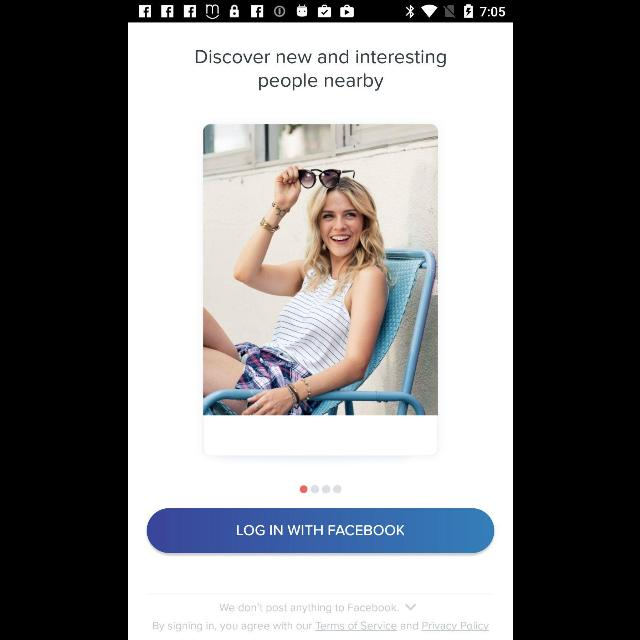icon: (404, 604, 416, 610)
image: (202, 124, 438, 456)
pageindicator: (298, 484, 342, 494)
text: (195, 50, 445, 90), (152, 622, 488, 632), (218, 603, 398, 613)
textbutton: (146, 508, 494, 552)
uppertaskbar: (128, 1, 512, 23)
